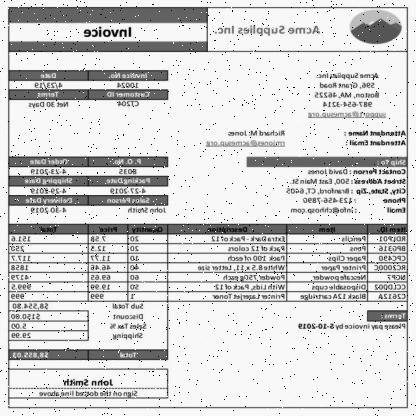Paragraph: (23, 156, 167, 214), (286, 158, 406, 214), (307, 72, 387, 118), (38, 378, 138, 398), (10, 302, 50, 339), (109, 302, 147, 340), (206, 130, 286, 147), (214, 24, 321, 36), (342, 129, 406, 147), (298, 323, 406, 330), (82, 25, 134, 39), (106, 91, 150, 107), (29, 91, 68, 109), (108, 72, 148, 89), (34, 72, 64, 90), (380, 313, 406, 319)
Table: (8, 224, 408, 300)
